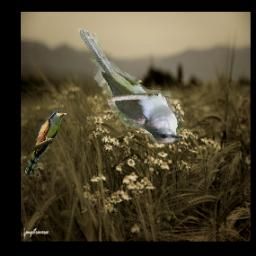Cuckoo: (76, 29, 182, 145), (25, 110, 66, 174)
